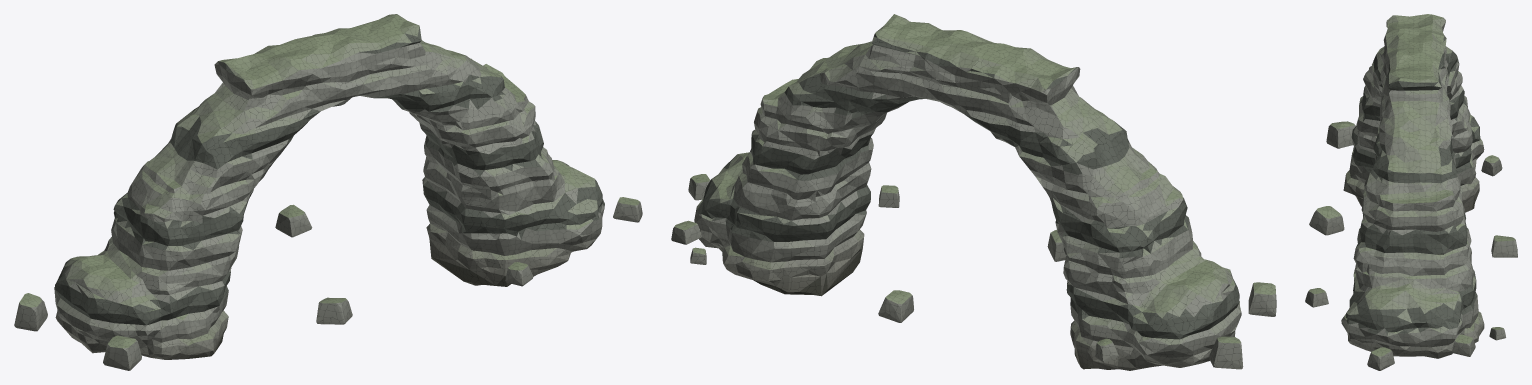
The model's file is rock_arch_large.glb.
3 renders of one model, left to right at view 1: azimuth 30°, elevation 25°; view 2: azimuth 150°, elevation 25°; view 3: azimuth 270°, elevation 25°, orthographic. The views are drawn at different scales.
Visible parts, largest first — view 1: rock_arch_large.001; view 2: rock_arch_large.001; view 3: rock_arch_large.001.
Boxes of the visible parts, bbox=[...] form: rock_arch_large.001: bbox=[14, 14, 642, 370]; rock_arch_large.001: bbox=[671, 14, 1276, 370]; rock_arch_large.001: bbox=[1305, 14, 1517, 370].
Size of what is drawn, in the model's own units: 53.52 by 23.2 by 19.55.
Materials: 2 (2 with a texture image).
